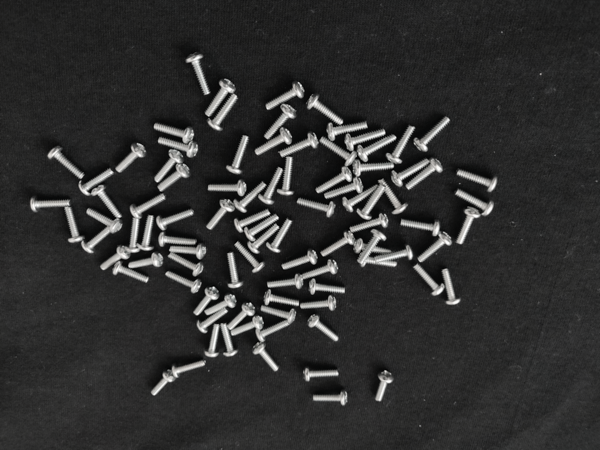shortscrew: (413, 117, 451, 152), (47, 145, 85, 179), (265, 81, 306, 112), (417, 229, 453, 264), (406, 158, 444, 191), (306, 94, 345, 126), (318, 135, 358, 166), (265, 103, 298, 140), (455, 189, 497, 218), (207, 94, 239, 132), (205, 78, 236, 117), (386, 126, 416, 166), (390, 159, 431, 188), (357, 184, 388, 221), (186, 52, 212, 96), (357, 134, 397, 162), (154, 148, 185, 184), (414, 263, 446, 297), (378, 178, 408, 214), (279, 131, 319, 158), (345, 125, 385, 152), (157, 163, 193, 193), (92, 184, 122, 220), (255, 127, 292, 156), (320, 229, 356, 258), (77, 169, 114, 197), (234, 242, 266, 274), (359, 227, 387, 263), (244, 214, 280, 242), (153, 121, 195, 145), (316, 167, 353, 194), (116, 141, 147, 173), (233, 182, 266, 212), (226, 134, 250, 175), (258, 167, 283, 206), (130, 193, 167, 219), (169, 251, 206, 277), (248, 225, 280, 255), (324, 176, 364, 200), (307, 314, 340, 343), (266, 218, 293, 253), (158, 136, 199, 159), (252, 342, 282, 373), (87, 209, 124, 234), (196, 307, 229, 335), (457, 206, 480, 246), (326, 120, 369, 141), (457, 170, 498, 192), (207, 199, 235, 231), (234, 210, 271, 234), (113, 260, 150, 284), (157, 208, 195, 231), (297, 197, 337, 218), (165, 272, 203, 294), (350, 213, 389, 234), (303, 259, 340, 281), (100, 244, 131, 270), (205, 293, 238, 317), (399, 218, 442, 236), (64, 207, 85, 243), (194, 287, 220, 316), (254, 321, 289, 342), (442, 268, 461, 306), (263, 288, 299, 308), (231, 316, 265, 337), (352, 160, 394, 177), (30, 196, 72, 213), (277, 157, 295, 196), (82, 228, 109, 254), (220, 322, 239, 358), (169, 242, 207, 260), (128, 251, 164, 270), (374, 245, 414, 262), (151, 370, 176, 397), (375, 370, 396, 402), (226, 252, 244, 289), (299, 295, 338, 312), (208, 179, 247, 196), (173, 360, 206, 380), (354, 238, 392, 255), (262, 305, 297, 323), (309, 279, 345, 296), (205, 325, 223, 358), (312, 391, 349, 406), (359, 253, 398, 267), (304, 368, 340, 383), (159, 234, 197, 248)
